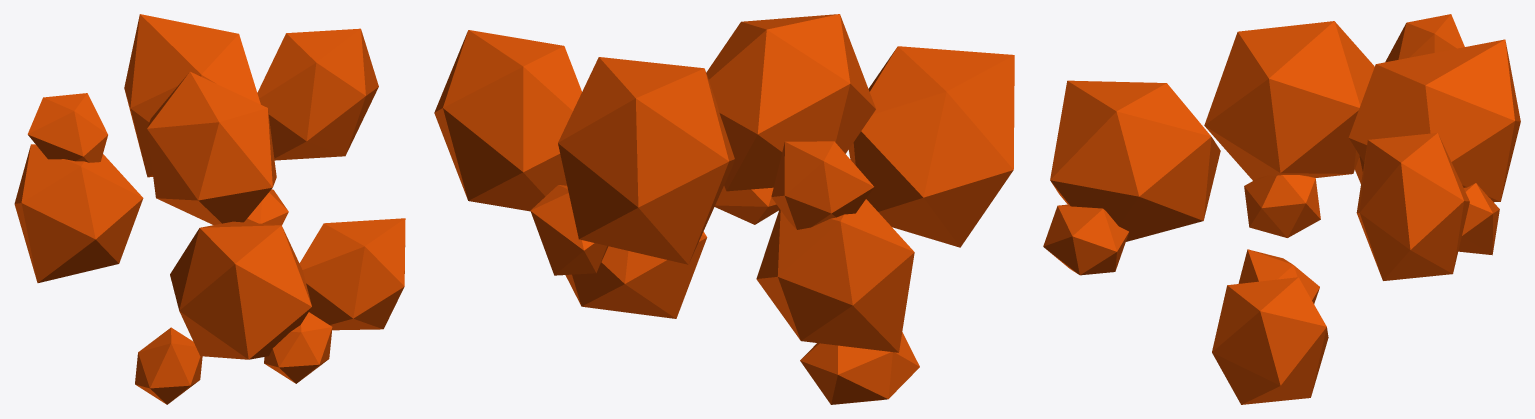
The model's file is tree-autumn-leaves-2-046.glb.
3 views of the same model, side by side, from view 1: azimuth 30°, elevation 25°; view 2: azimuth 150°, elevation 25°; view 3: azimuth 270°, elevation 25° (orthographic). The views are drawn at different scales.
Visible parts, largest first — view 1: TREE 2.003_394; view 2: TREE 2.003_394; view 3: TREE 2.003_394.
Part boxes in pixels (x1,y1,x2,y2): TREE 2.003_394: [14, 14, 405, 404]; TREE 2.003_394: [434, 14, 1014, 404]; TREE 2.003_394: [1043, 14, 1520, 404].
Size of the model in its own units: 1.39 by 1.08 by 1.39.
